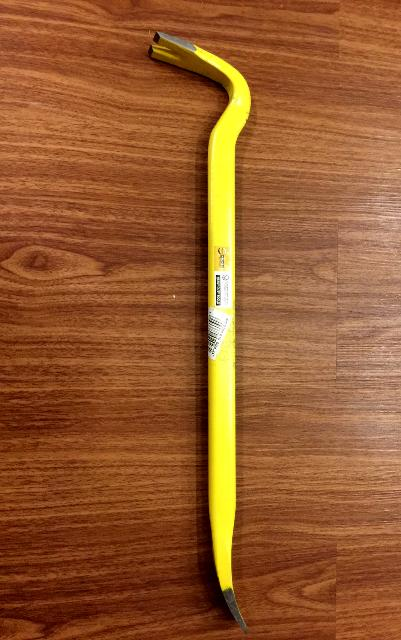crow bar: (137, 22, 273, 640)
